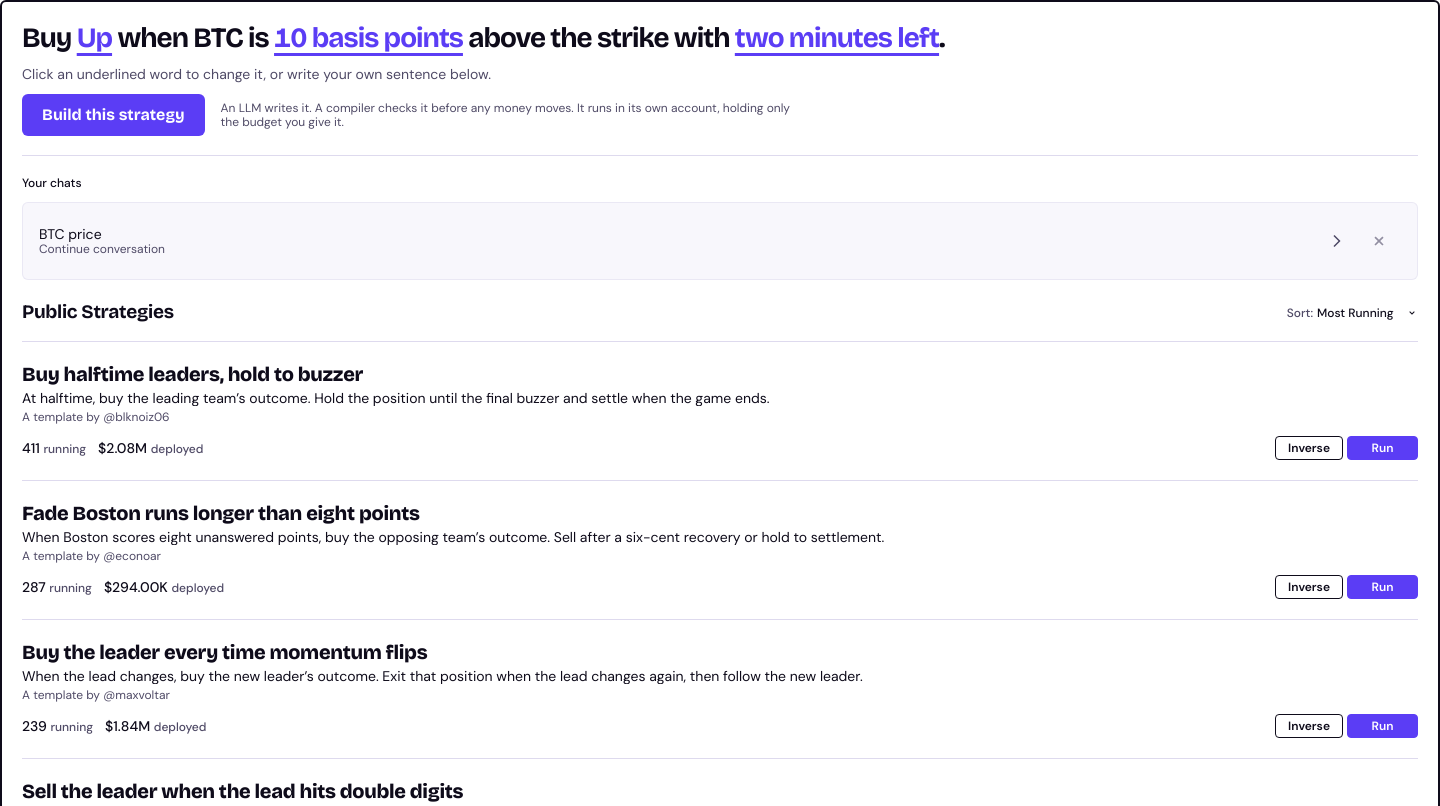
Test: saved chat navigation › restores default copy, opens persisted history, goes back, and creates a separately titled chat
Check: the heading "Buy Up when BTC is 10 basis points above the strike" is shown, box [22,21,945,55]
Check: the button "Build this strategy" is enabled, box [22,94,205,136]
Click the button with aria-label "Open chat: BTC price": (70, 234) [39,219,1349,263]
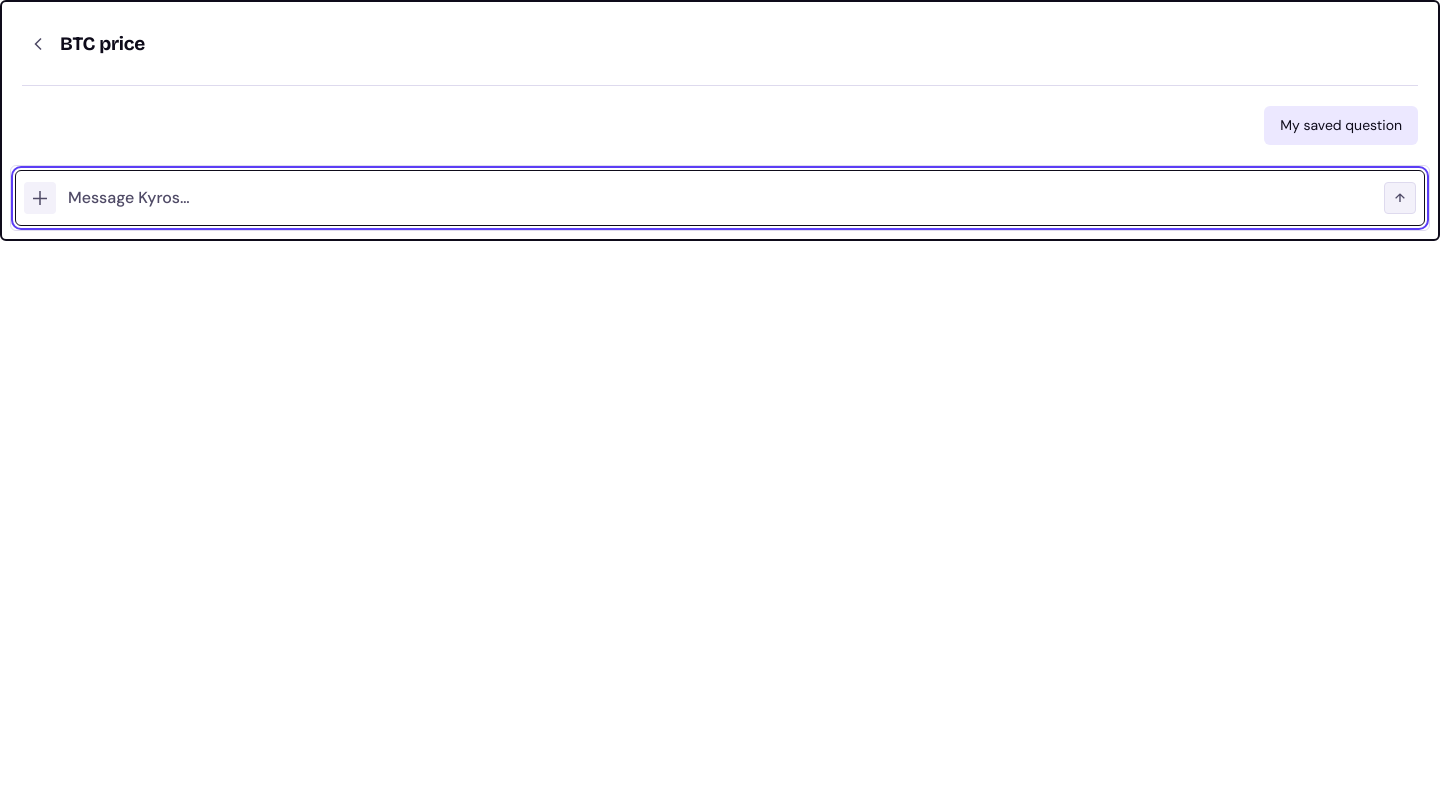
Check: the heading "BTC price" is shown, box [60,32,145,56]
Check: the text "My saved question" is shown, box [1280,114,1402,137]
Click the button named "Back to chats and public strategies": (38, 44) [22,28,54,60]
(page scrolled)
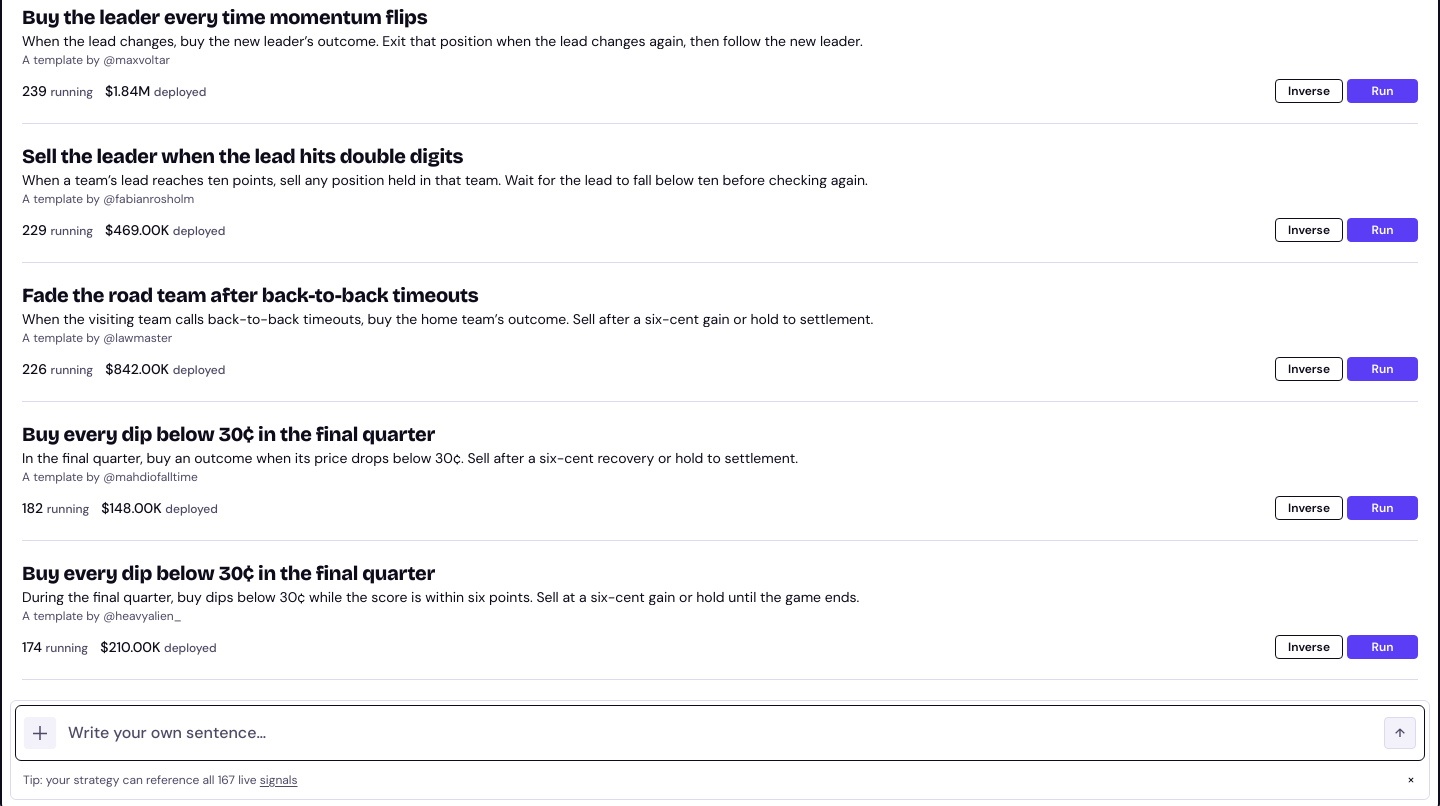
In the field named "Message Kyros": (720, 733) [68,724,1372,742], type "A different question"
Then press Enter
(page scrolled)
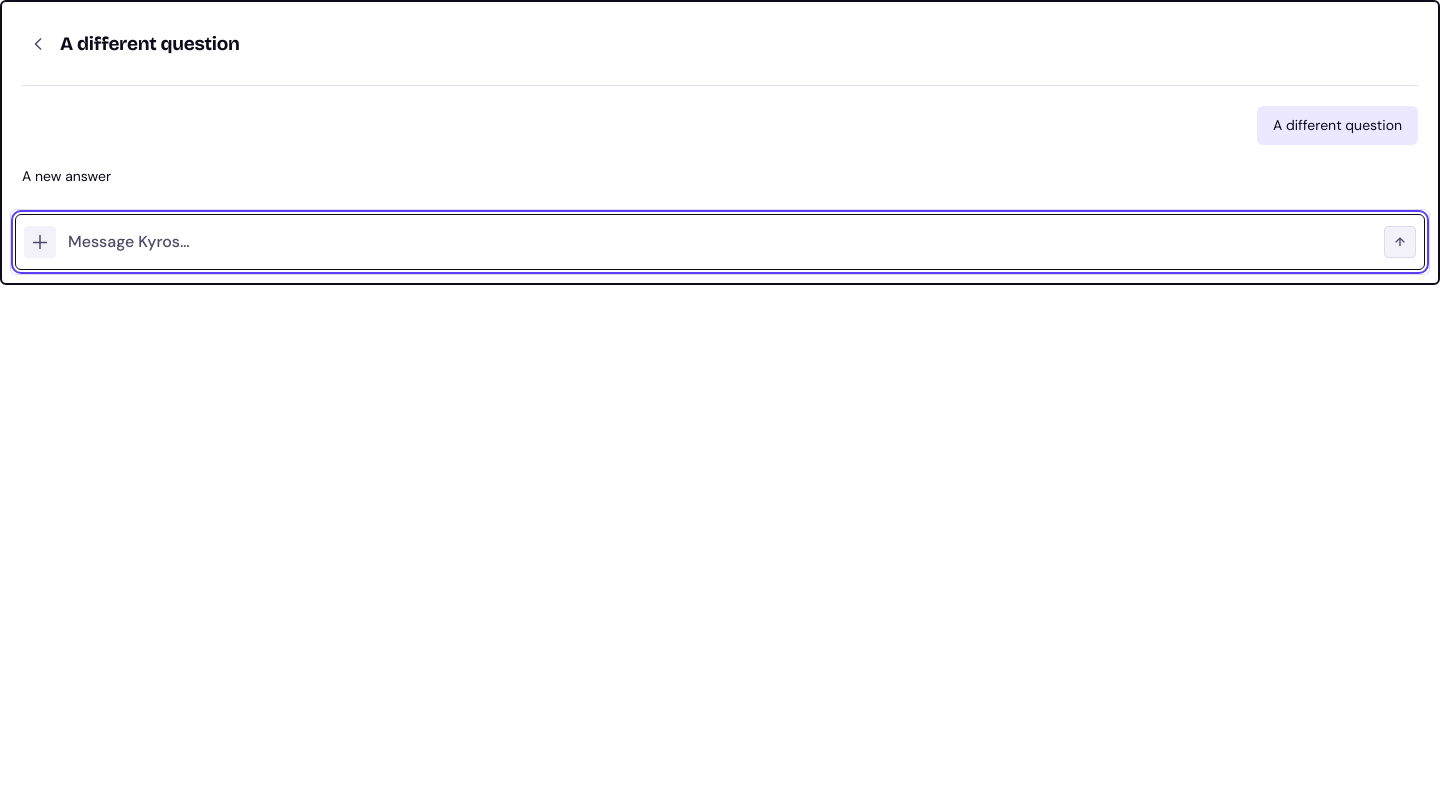
Check: the text "My saved question" is not shown
Check: the text "A new answer" is shown, box [22,167,111,185]
Check: the heading "A different question" is shown, box [60,32,240,56]
